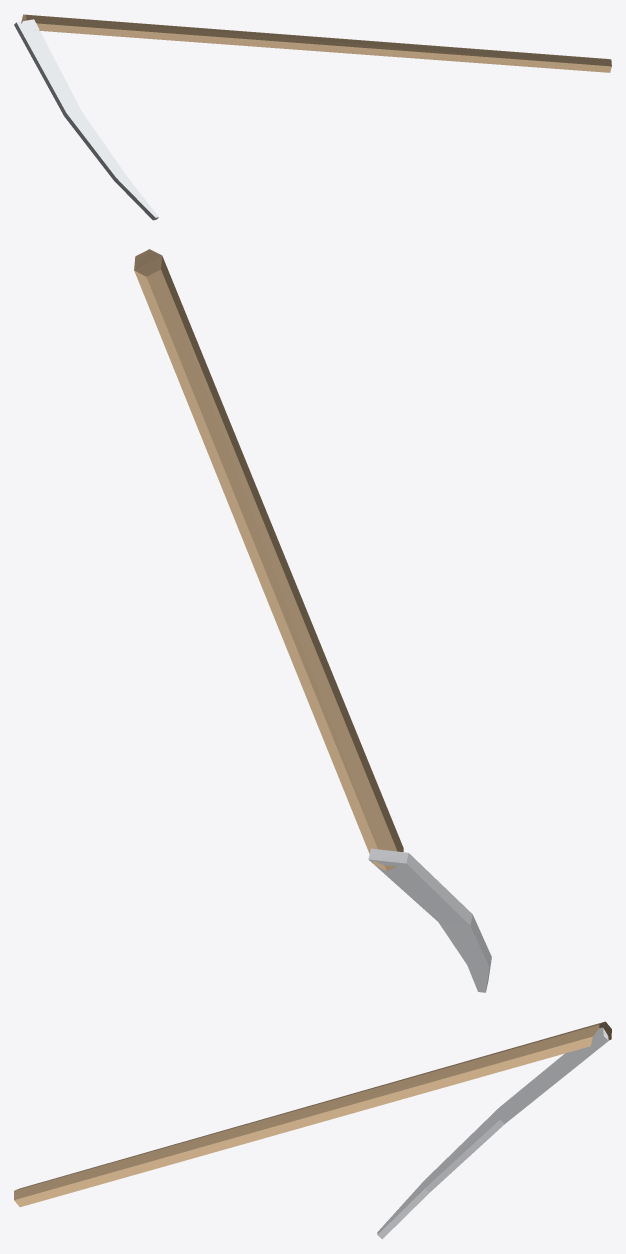
File: prop_scythe_male.glb
The picture shows the model from 3 angles, top to bottom: view 1: azimuth 30°, elevation 25°; view 2: azimuth 150°, elevation 25°; view 3: azimuth 270°, elevation 25°; orthographic projection. The views are drawn at different scales.
Visible parts, largest first — view 1: Arm.R.Lower.Scythe.Snath, Arm.R.Lower.Scythe.Blade, Arm.R.Lower.Scythe.Blade#2, Arm.R.Lower.Scythe.Blade#3; view 2: Arm.R.Lower.Scythe.Snath, Arm.R.Lower.Scythe.Blade, Arm.R.Lower.Scythe.Blade#2; view 3: Arm.R.Lower.Scythe.Snath, Arm.R.Lower.Scythe.Blade, Arm.R.Lower.Scythe.Blade#2, Arm.R.Lower.Scythe.Blade#3.
Part boxes in pixels (box(x1,y1,x2,y2)): Arm.R.Lower.Scythe.Snath: box(21, 14, 611, 72); Arm.R.Lower.Scythe.Blade: box(14, 19, 81, 115); Arm.R.Lower.Scythe.Blade#2: box(64, 111, 126, 180); Arm.R.Lower.Scythe.Blade#3: box(114, 176, 158, 220); Arm.R.Lower.Scythe.Snath: box(134, 249, 403, 870); Arm.R.Lower.Scythe.Blade: box(368, 848, 472, 925); Arm.R.Lower.Scythe.Blade#2: box(438, 914, 491, 967); Arm.R.Lower.Scythe.Snath: box(14, 1021, 611, 1207); Arm.R.Lower.Scythe.Blade: box(499, 1027, 608, 1123); Arm.R.Lower.Scythe.Blade#2: box(424, 1108, 504, 1192); Arm.R.Lower.Scythe.Blade#3: box(377, 1181, 429, 1239).
Bounding box in the file's own units: 1.18 × 0.588 × 1.32.
